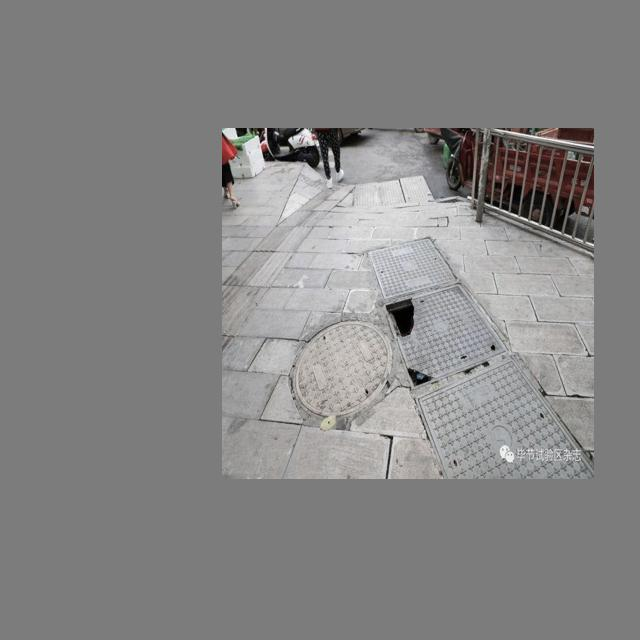broke: (382, 289, 512, 390)
